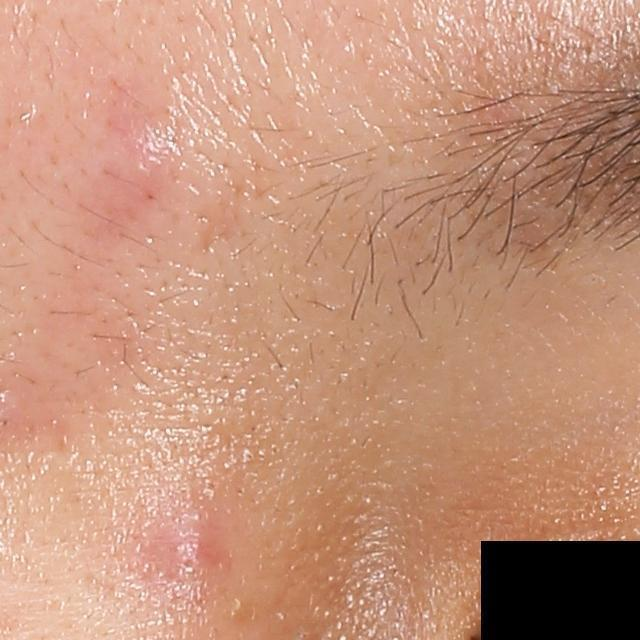papule: (139, 508, 228, 577)
